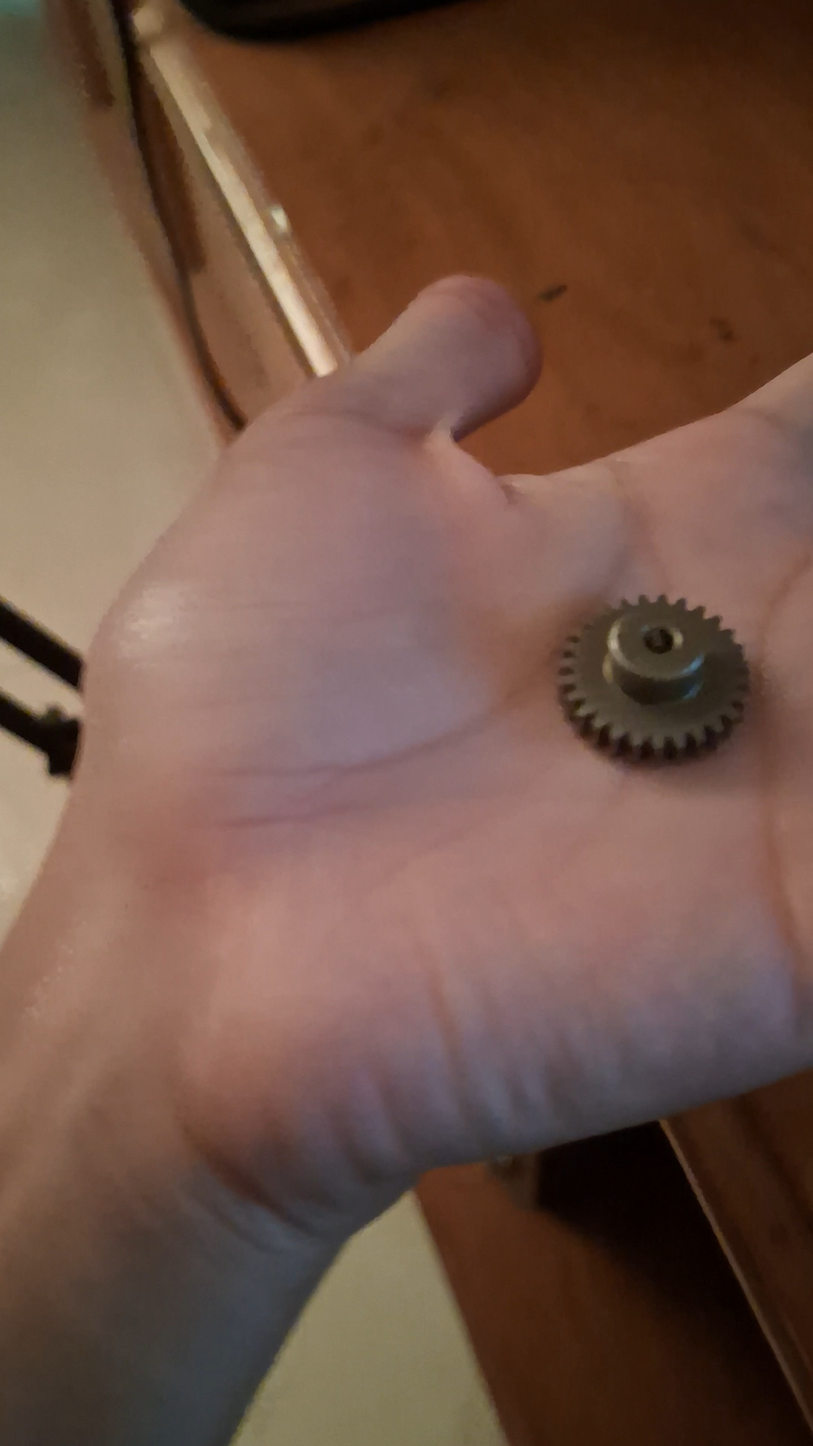spur gear: (559, 596, 748, 760)
